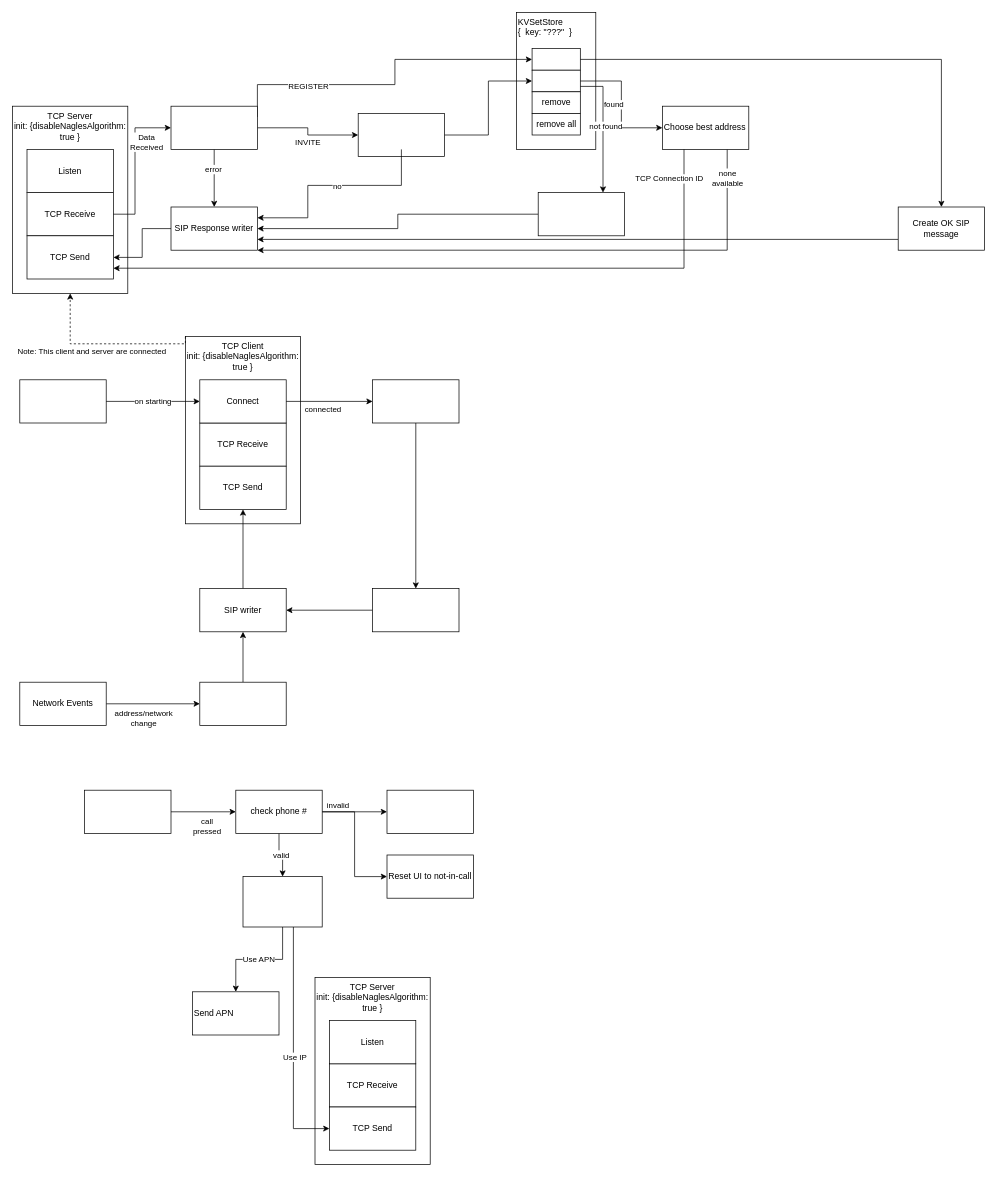
Some shapes in this 997 by 1177 pixel diagram are drawn without their labels. Here are the shapes that lost their labels. From the top down, the centre of each, then its label:
point (555, 59): add
point (555, 80): get
point (213, 127): SIP extractor
point (401, 135): Create INVITE for callee
point (581, 214): Create SIP "not found"
point (62, 401): App Lifecycle
point (415, 401): REGISTER Active connection
point (415, 610): SIP Request Writer
point (242, 703): REGISTER IP address(es)
point (127, 811): UI Events (Call UI)
point (429, 811): Show Error Popup
point (282, 901): Find an address for the recipient (APN, IP)
